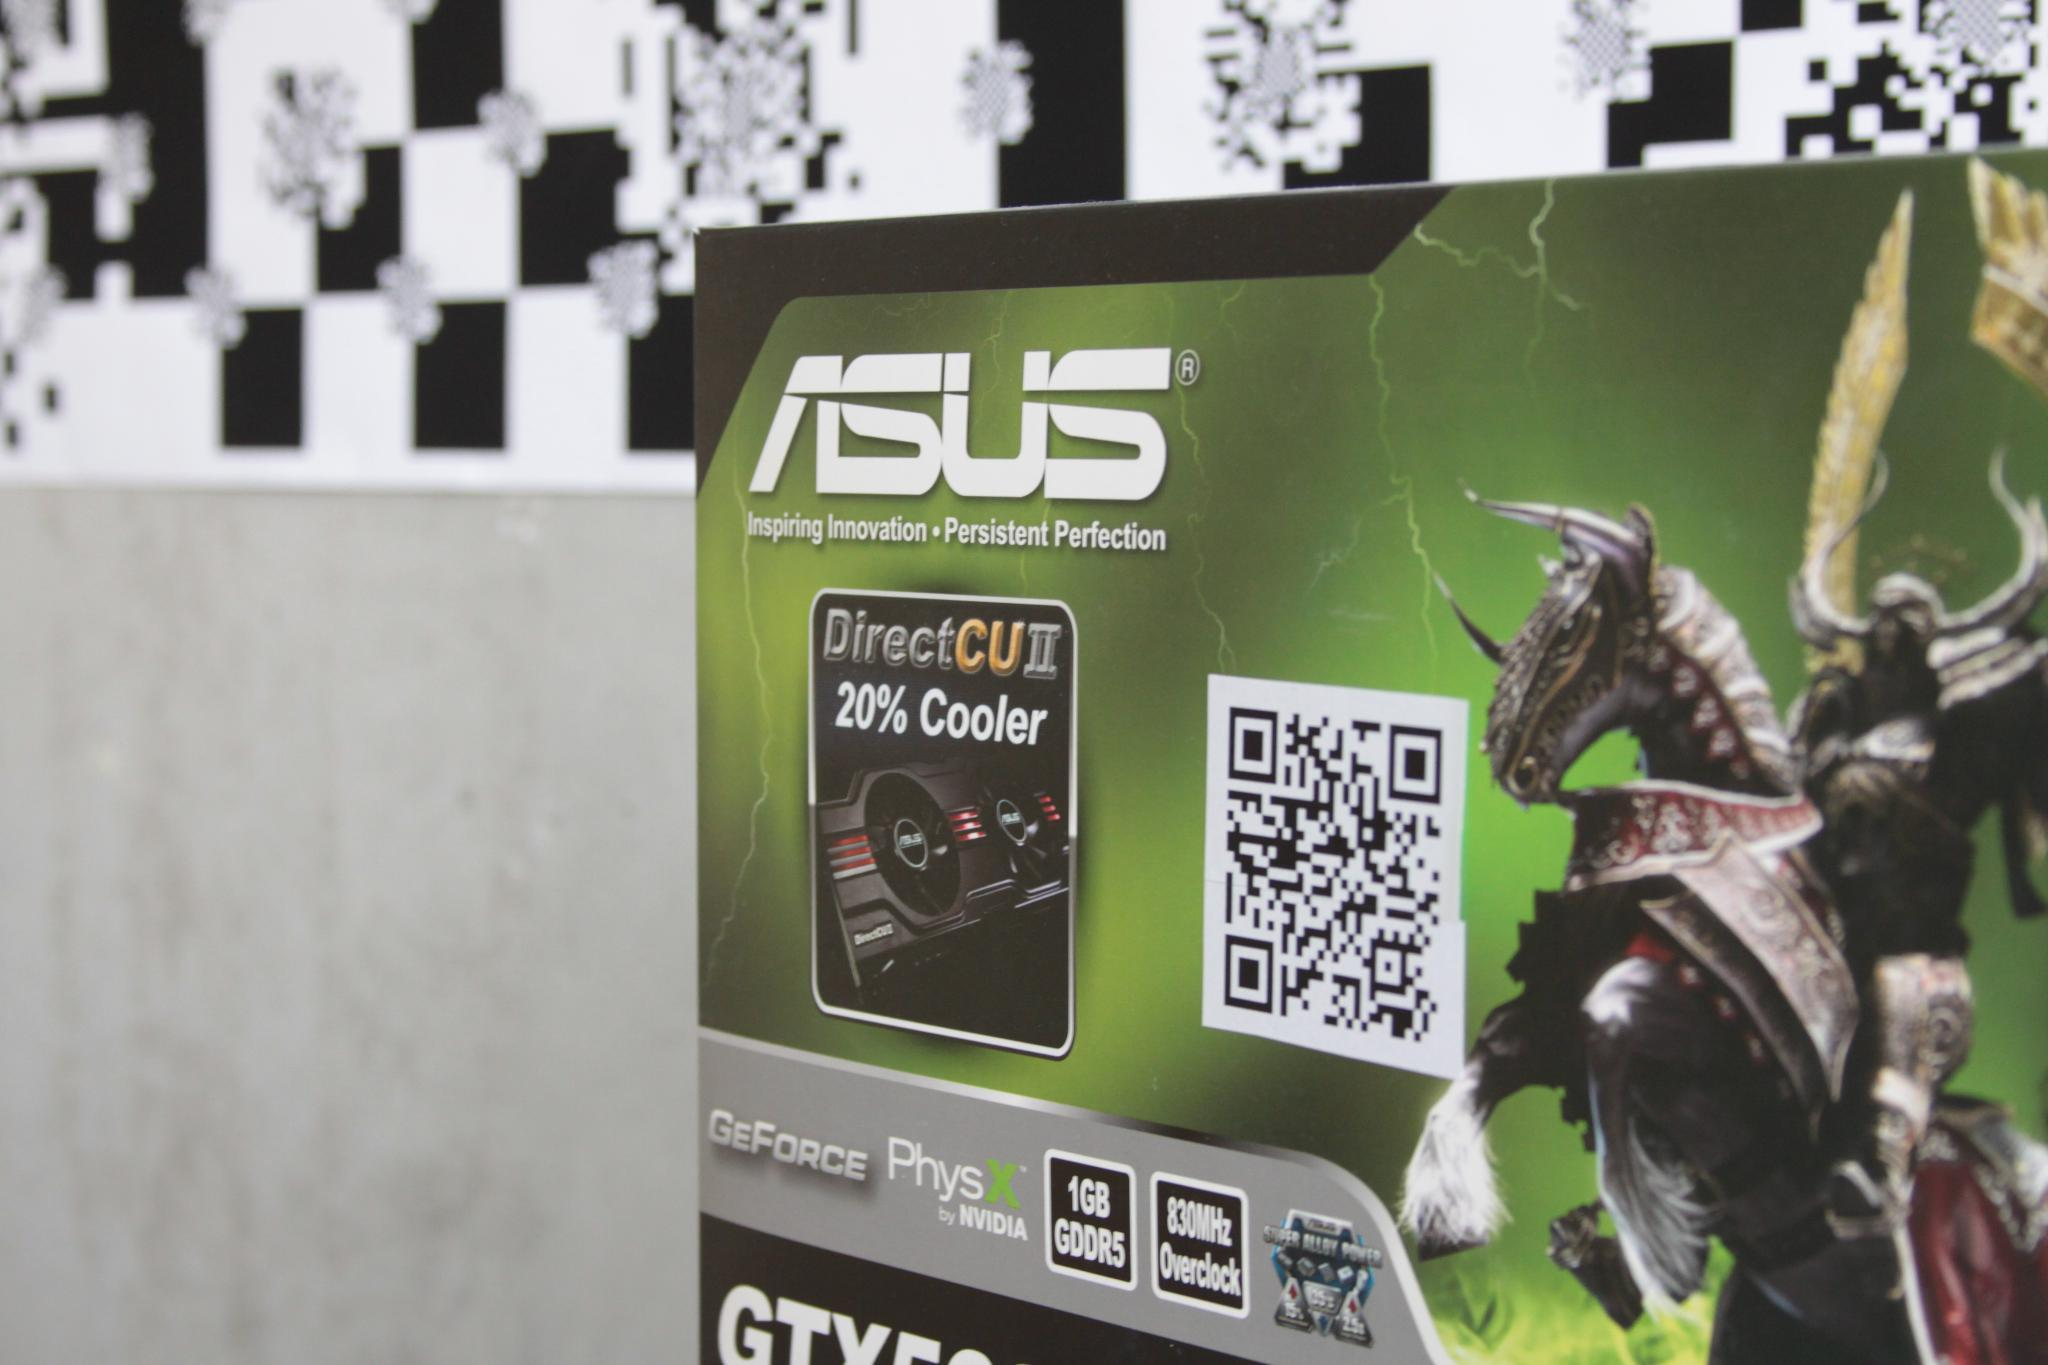qr_code: (1223, 707, 1443, 1044)
